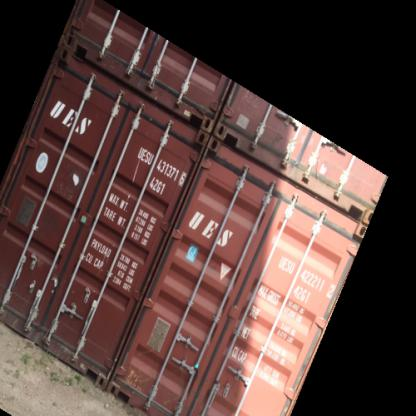Damage: (27, 310, 159, 386)
